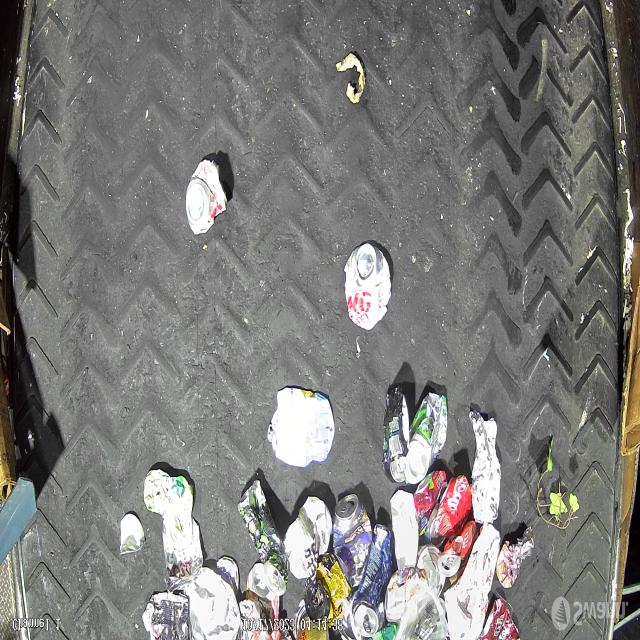can: (345, 243, 392, 330), (405, 392, 447, 484), (334, 494, 372, 587), (304, 555, 352, 626), (186, 158, 228, 234), (352, 563, 385, 638), (264, 556, 288, 596), (246, 562, 270, 598)
